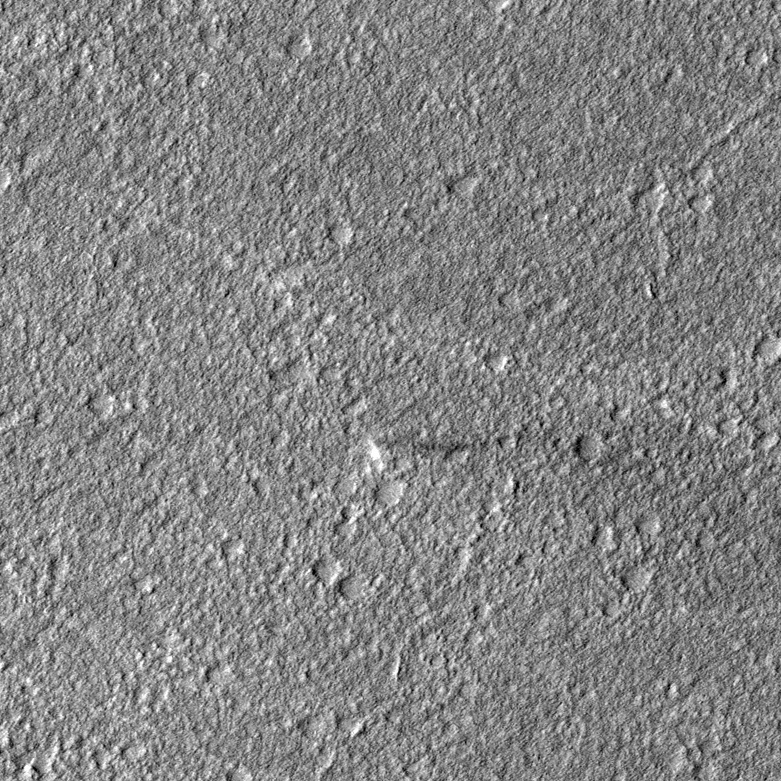dust_devil: (365, 433, 512, 473)
